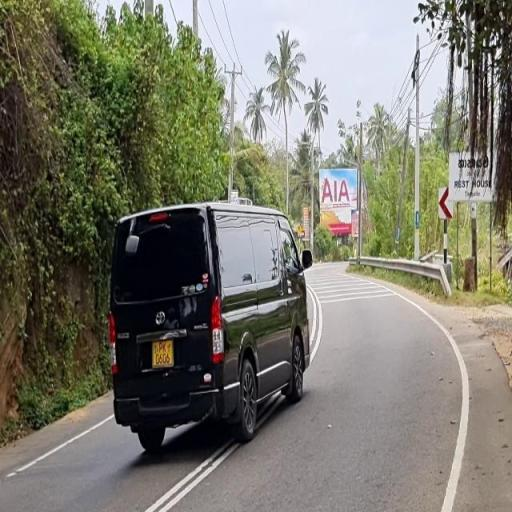double_white_line: (142, 287, 326, 511)
